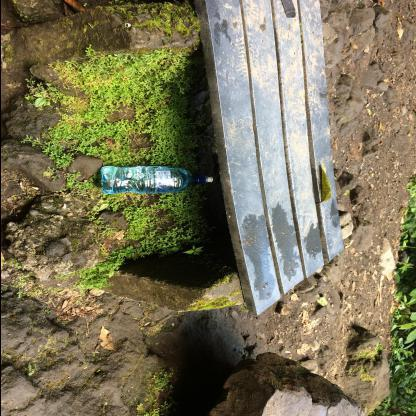plastik: (101, 167, 215, 195)
